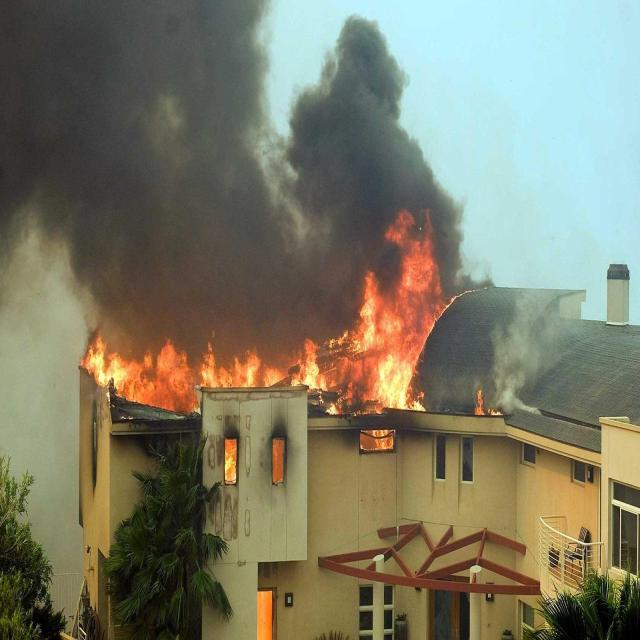Fire: (85, 329, 433, 414), (358, 211, 440, 414), (362, 430, 392, 453), (478, 388, 500, 417), (226, 446, 237, 483)
